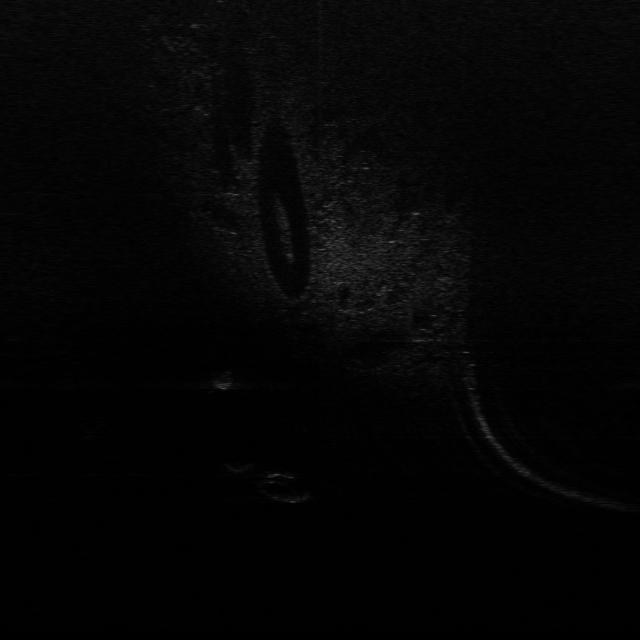cube: (220, 460, 254, 475)
square cage: (204, 366, 236, 394)
tyre: (254, 468, 314, 504)
